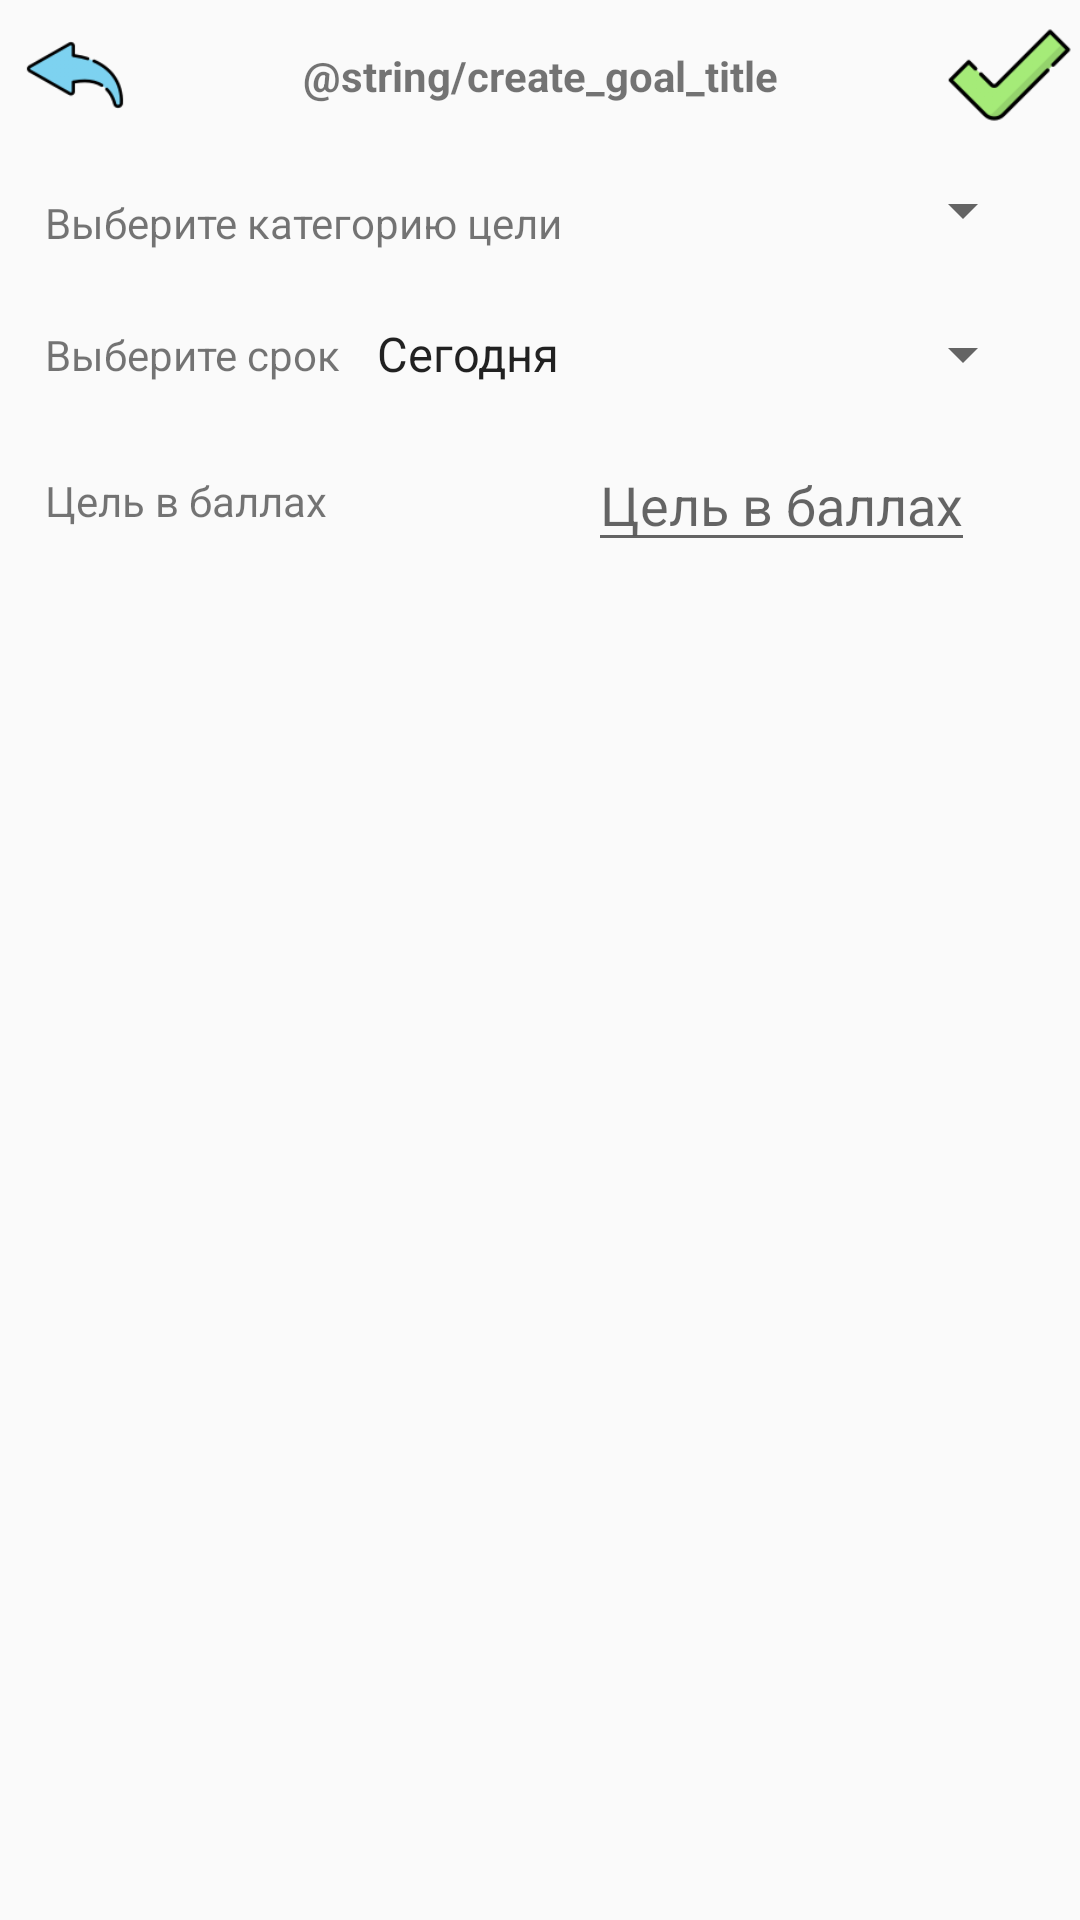

Locate icon controls on the screen. Image size 1080x1920, boxes as [x1,y1,x2,y2].
back: [26,42,124,108]
